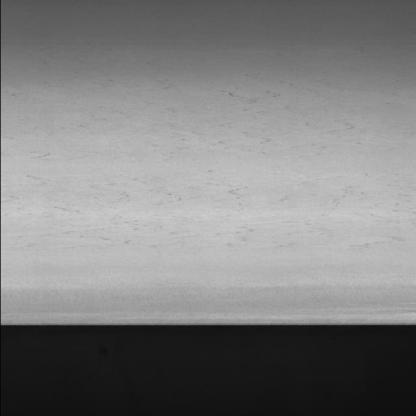silk_spot: (8, 75, 409, 262)
